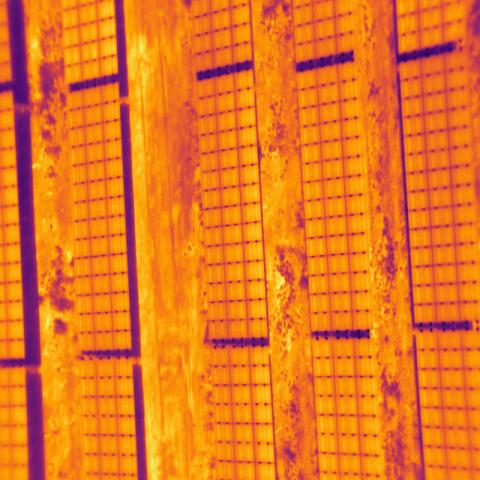fault: (81, 39, 98, 63)
